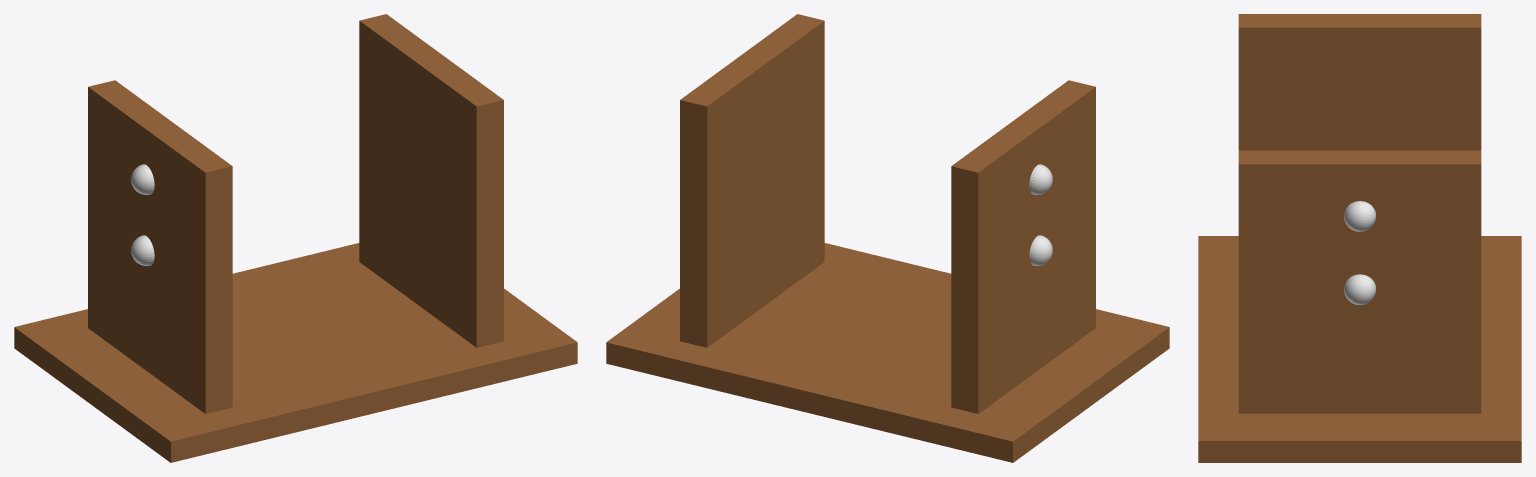
Rendered from Printer-Base.glb.
3 views of the same model, side by side, from view 1: azimuth 30°, elevation 25°; view 2: azimuth 150°, elevation 25°; view 3: azimuth 270°, elevation 25° (orthographic). The views are drawn at different scales.
Visible parts, largest first — view 1: MoneyPrinterBase; view 2: MoneyPrinterBase; view 3: MoneyPrinterBase.
Part boxes in pixels (box(x1,y1,x2,y2)): MoneyPrinterBase: box(14, 14, 577, 462); MoneyPrinterBase: box(606, 14, 1169, 462); MoneyPrinterBase: box(1198, 14, 1521, 462).
Size of the model in its own units: 6 by 3.7 by 4.
